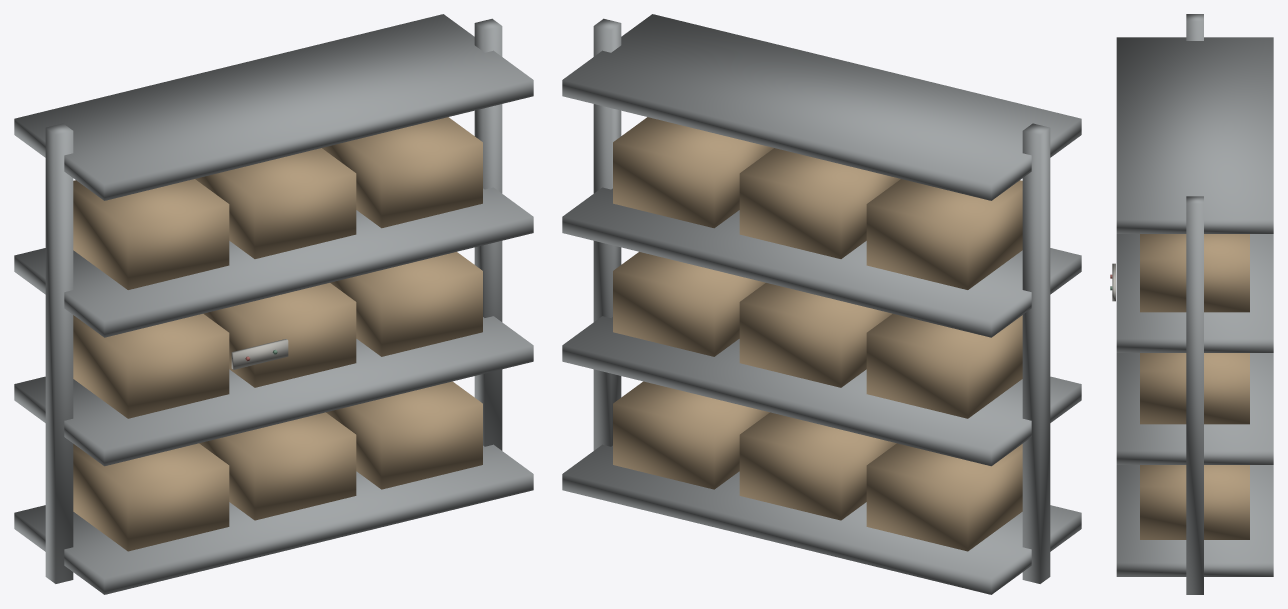
File: warehouse_pallet_rack.glb
The picture shows the model from 3 angles, left to right: view 1: azimuth 30°, elevation 25°; view 2: azimuth 150°, elevation 25°; view 3: azimuth 270°, elevation 25°; orthographic projection. The views are drawn at different scales.
Visible parts, largest first — view 1: world; view 2: world; view 3: world.
Part boxes in pixels (box(x1,y1,x2,y2)): world: box(14, 14, 533, 594); world: box(562, 14, 1081, 594); world: box(1110, 14, 1273, 594).
Size of the model in its own units: 2.29 by 2.2 by 0.831.
